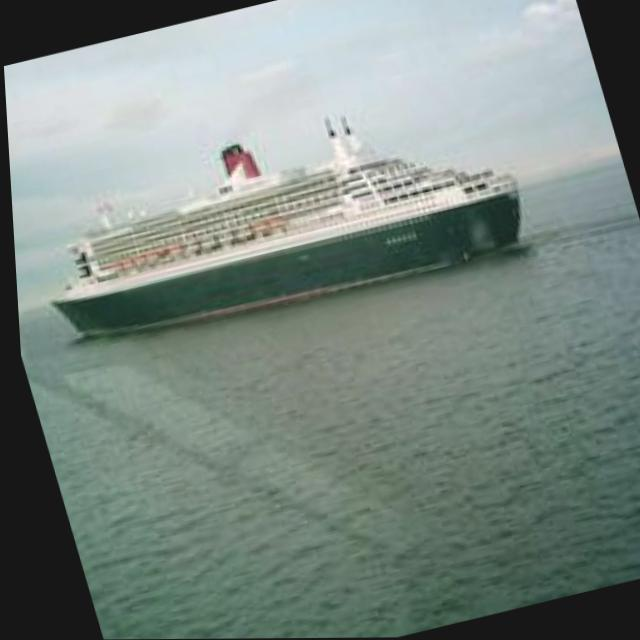ship2: (46, 114, 520, 339)
